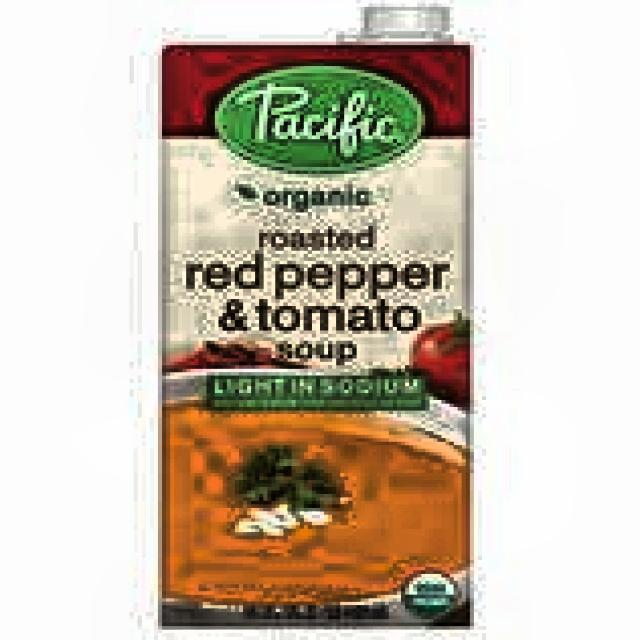cardboard: (158, 38, 474, 626)
